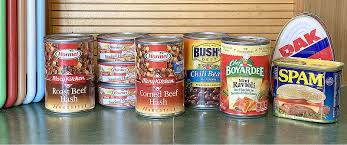can: (45, 11, 342, 129)
